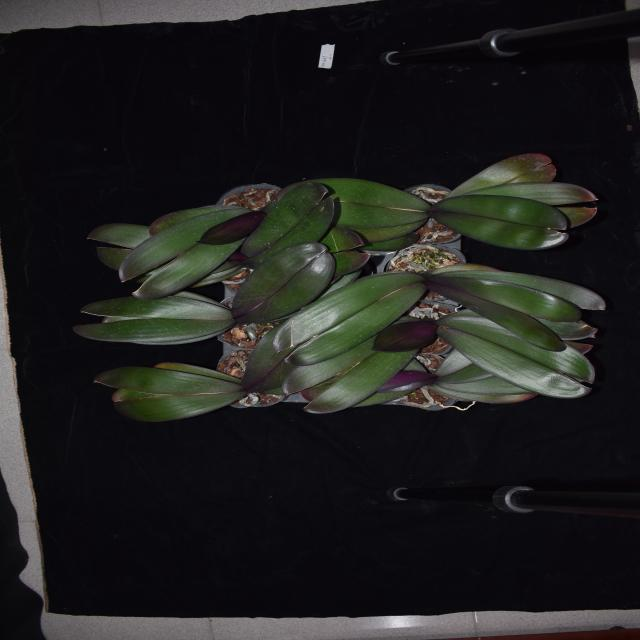leaf: (272, 264, 428, 363), (433, 314, 597, 399), (123, 204, 247, 300), (282, 336, 426, 416), (434, 284, 576, 354), (93, 357, 240, 424), (228, 242, 336, 328), (433, 262, 611, 313), (423, 272, 603, 322), (72, 290, 232, 345), (243, 178, 338, 270), (429, 194, 572, 252), (441, 149, 561, 202), (458, 182, 596, 228), (307, 178, 433, 228), (232, 326, 294, 390), (79, 224, 155, 274), (429, 376, 546, 402), (198, 207, 268, 247), (370, 315, 434, 353), (435, 350, 497, 385), (353, 214, 426, 241), (324, 242, 374, 274), (369, 368, 433, 393), (312, 224, 364, 253), (364, 232, 420, 254)
